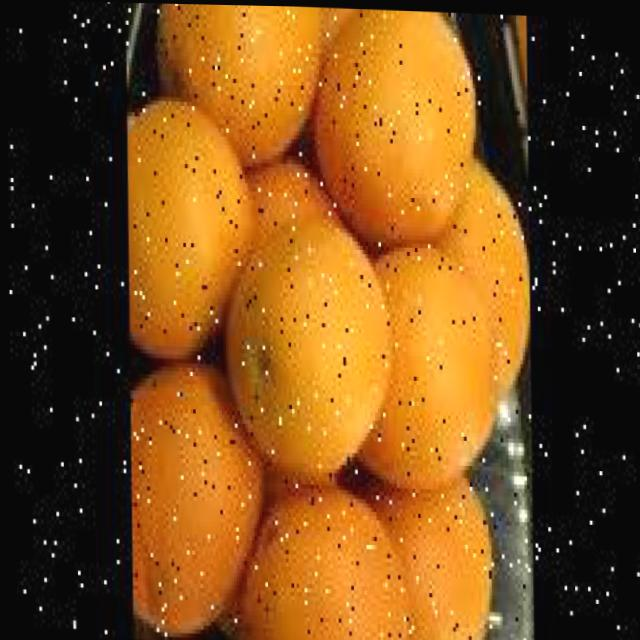orange: (217, 208, 391, 481), (307, 5, 475, 245), (124, 363, 264, 637), (347, 242, 497, 489), (121, 96, 255, 359), (154, 3, 327, 168), (231, 479, 404, 640), (425, 159, 534, 401), (362, 470, 491, 640)
